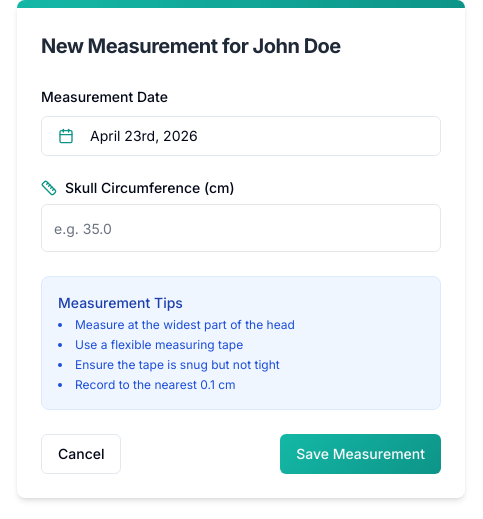
Test: SkullMeasurementForm › disables buttons while submitting
In the field labelled "Skull Circumference (cm)": (241, 228) top-left (41, 204), bottom-right (441, 252), type "42"
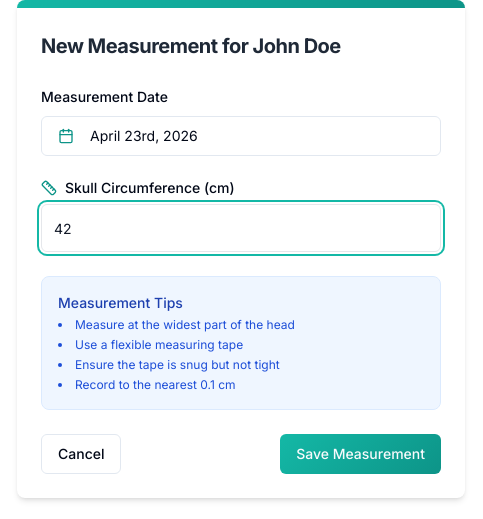
Click the button "Save Measurement": (361, 454) top-left (280, 434), bottom-right (441, 474)
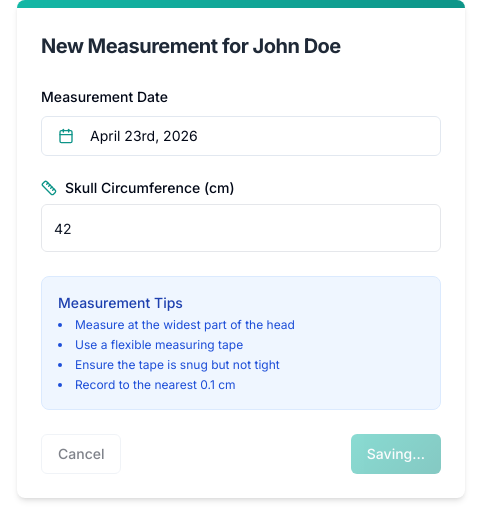
Expected: the button "Saving..." is disabled, top-left (351, 434), bottom-right (441, 474)
